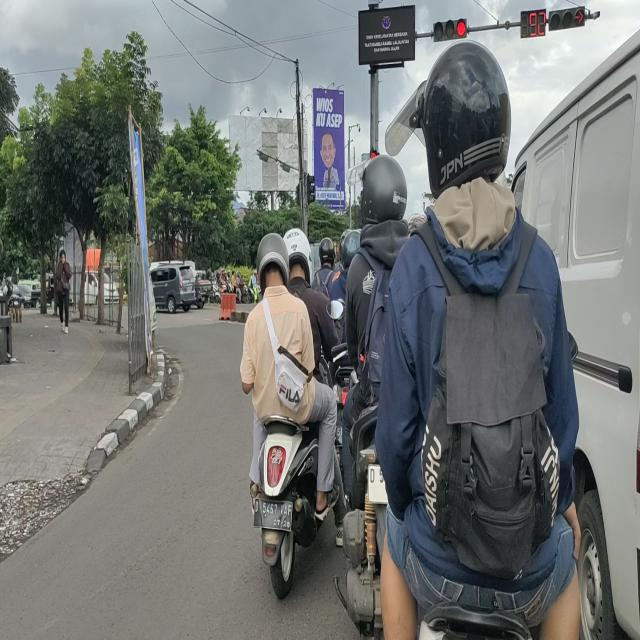helmet: (424, 45, 513, 181), (364, 153, 410, 232), (258, 230, 288, 296), (286, 227, 311, 293), (336, 230, 358, 267), (319, 236, 335, 273)
